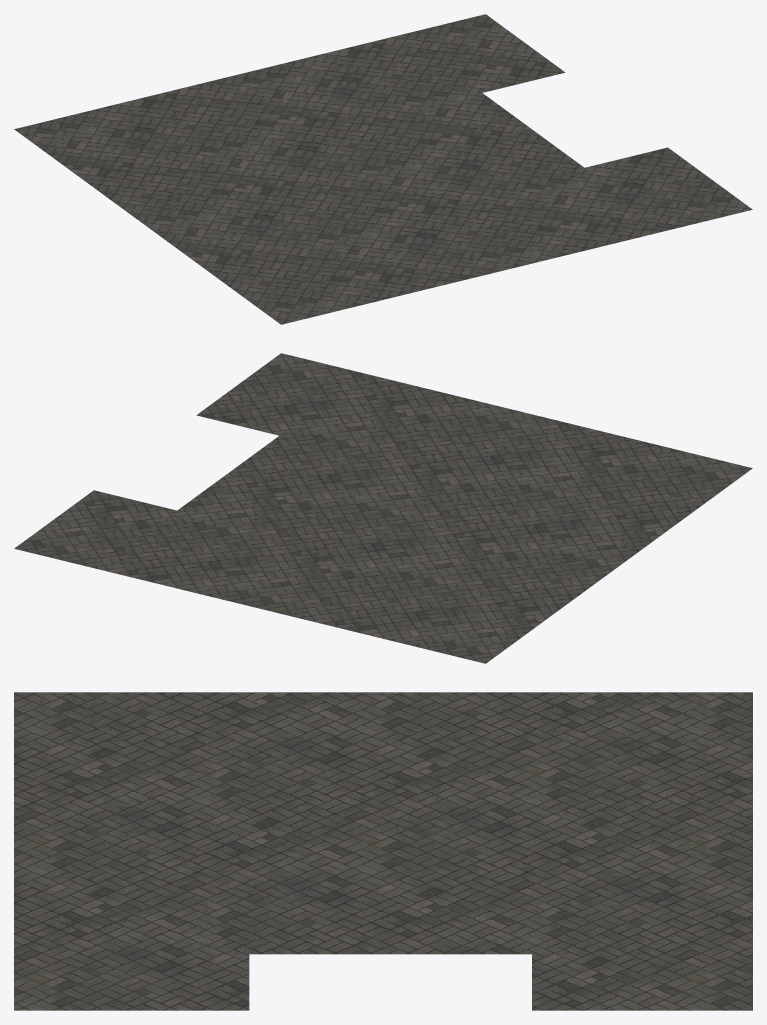
File: DN_mctaimian01.FBX
The picture shows the model from 3 angles, top to bottom: view 1: azimuth 30°, elevation 25°; view 2: azimuth 150°, elevation 25°; view 3: azimuth 270°, elevation 25°; orthographic projection. The views are drawn at different scales.
Parts seen in each view (by area): view 1: DN_mctaimian01; view 2: DN_mctaimian01; view 3: DN_mctaimian01.
Part boxes in pixels (bbox=[...]): DN_mctaimian01: bbox=[14, 14, 752, 324]; DN_mctaimian01: bbox=[14, 353, 752, 663]; DN_mctaimian01: bbox=[14, 692, 752, 1010].
Size of the model in its own units: 3883 by 1.02e-12 by 3808.
